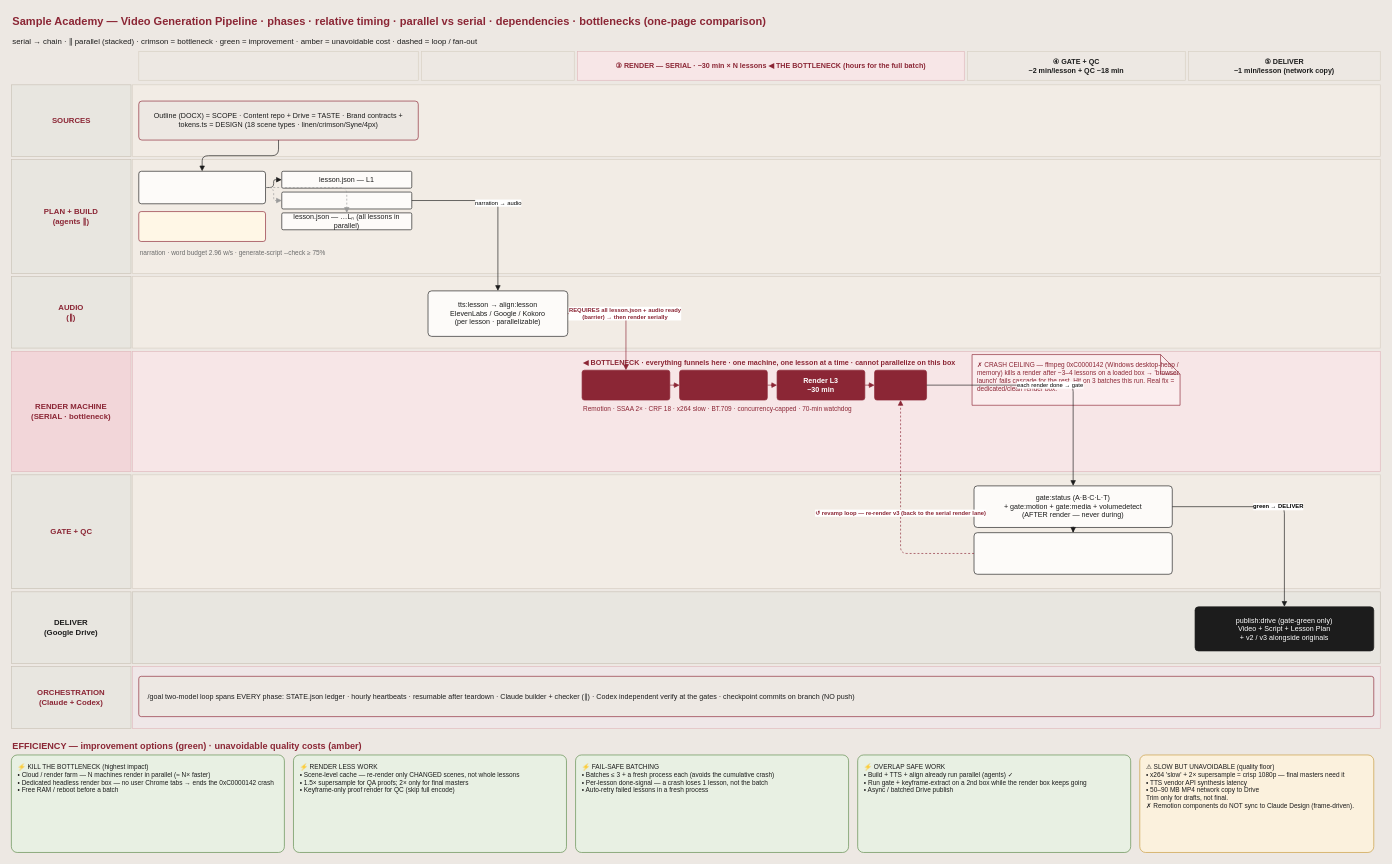
Some shapes in this 1392 by 864 pixel diagram are drawn without their labels. The shapes that lost their labels are listed below. From the top down, each one's centre as x and y in pixels, then its label:
At point 278,65: "① PLAN + BUILD ~20–40 min total · PARALLEL ∥ across lessons".
At point 497,65: "② AUDIO ~3–8 min/lesson · ∥".
At point 202,187: "lesson-plan → lesson plan + scene-contract.json".
At point 346,200: "lesson.json — L2 ∥".
At point 202,226: "Gate A · accuracy sweep (claims vs vendor docs)".
At point 625,385: "Render L1 ~30 min".
At point 723,385: "Render L2 ~30 min".
At point 900,385: "… × N (serial)".
At point 1072,553: "keyframes-review → Claude Design QC (∥ vision agents) → fix → re-render v3".
